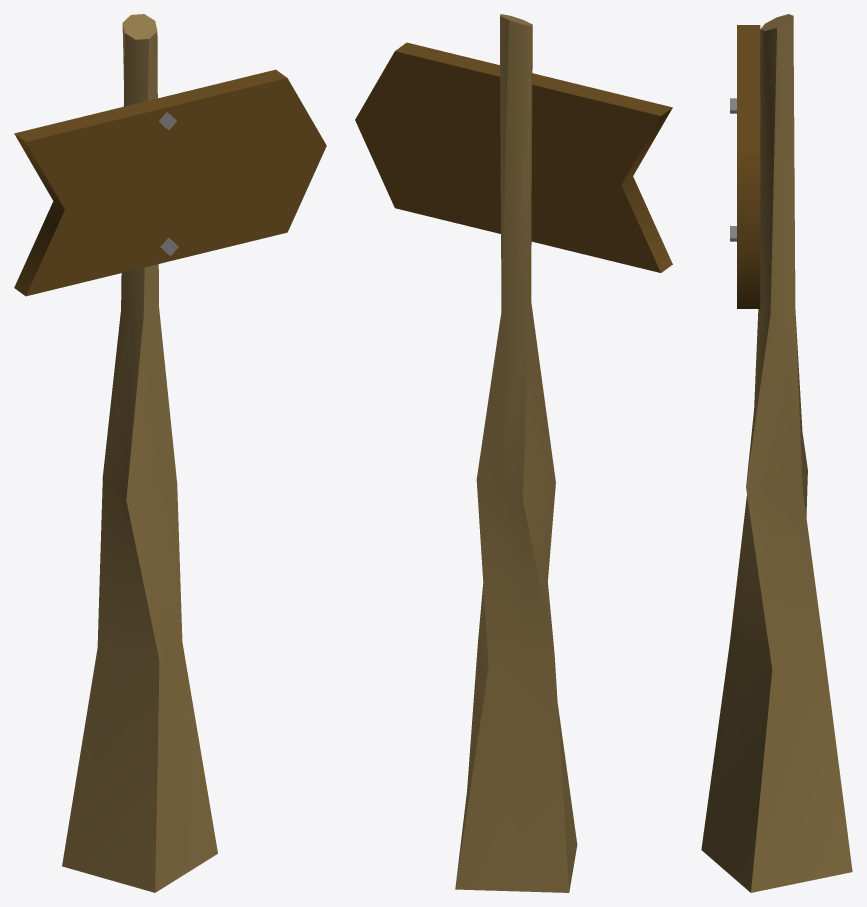
Rendered from mesh_post_1.fbx.
3 renders of one model, left to right at view 1: azimuth 30°, elevation 25°; view 2: azimuth 150°, elevation 25°; view 3: azimuth 270°, elevation 25°, orthographic.
Visible parts, largest first — view 1: post_1; view 2: post_1; view 3: post_1.
Part boxes in pixels (x1=…): post_1: x1=14, y1=14, x2=326, y2=892; post_1: x1=355, y1=14, x2=672, y2=892; post_1: x1=701, y1=14, x2=852, y2=892.
Size of the model in its own units: 115 by 306 by 49.71.
Materials: 1 (1 with a texture image).
